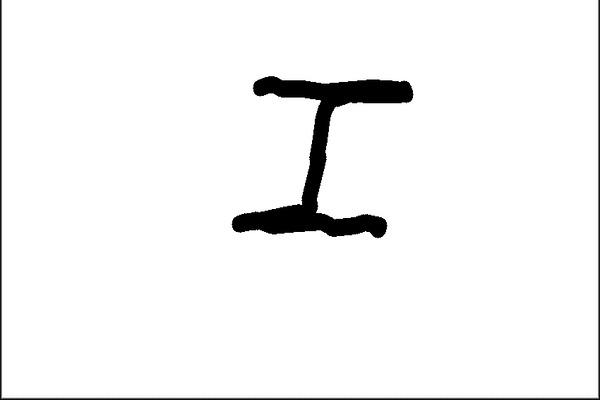i: (226, 59, 408, 248)
